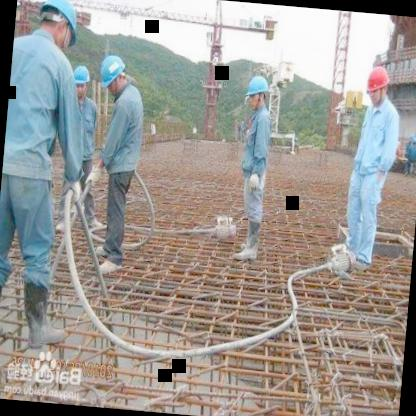helmet: (33, 0, 84, 50), (100, 52, 129, 96), (364, 63, 392, 107), (244, 74, 271, 116), (67, 62, 92, 100)
